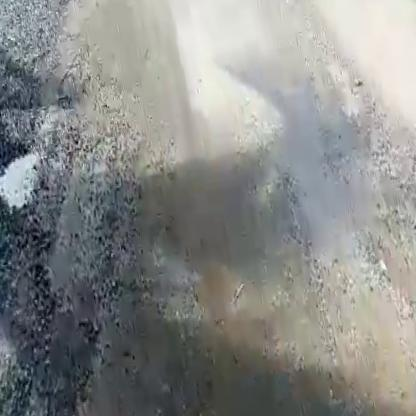pothole: (0, 145, 46, 215)
